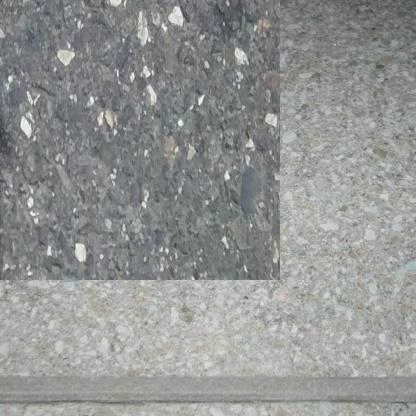Cracks: (0, 67, 13, 259)
